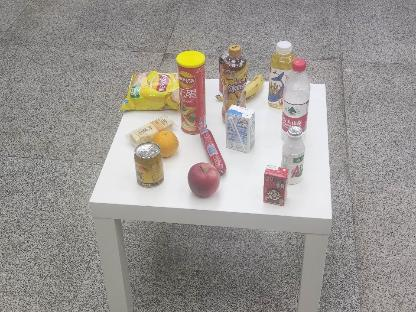Can: (134, 142, 164, 188)
Others: (172, 49, 208, 133), (224, 100, 258, 156), (260, 162, 292, 208)
Plastic Bottle: (282, 61, 314, 140)
